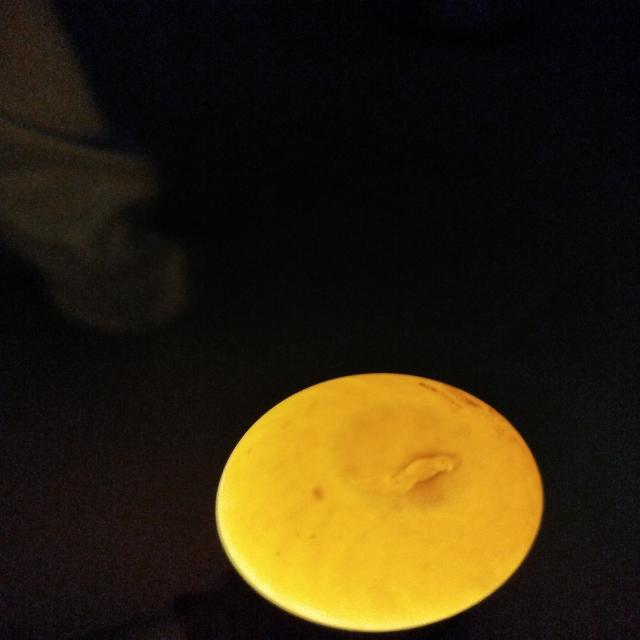Rachadura: (391, 455, 454, 494)
